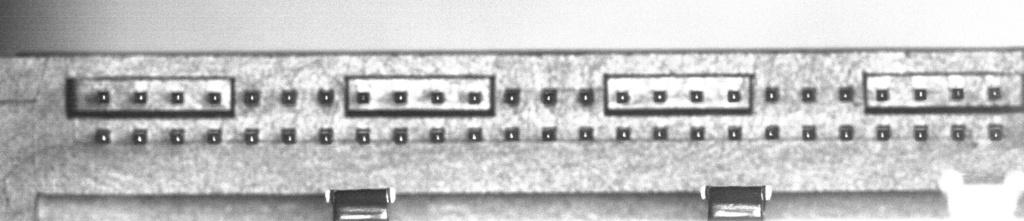pin_ok: (317, 87, 335, 105), (540, 87, 558, 105), (987, 123, 1004, 141), (503, 87, 520, 105), (280, 88, 298, 105), (576, 88, 594, 105), (838, 85, 855, 102), (242, 89, 260, 105), (875, 124, 892, 140), (243, 128, 260, 144), (951, 125, 967, 141), (913, 125, 929, 141), (169, 128, 185, 144), (355, 128, 371, 144), (95, 128, 111, 144), (764, 86, 780, 102), (800, 86, 816, 102), (801, 125, 817, 140), (281, 127, 296, 143), (206, 128, 221, 144), (429, 127, 445, 142), (467, 127, 483, 142), (541, 126, 557, 141), (131, 129, 147, 144), (318, 127, 333, 143), (503, 127, 520, 141), (839, 125, 854, 140), (393, 128, 408, 143), (727, 125, 742, 140), (690, 125, 705, 140), (614, 90, 630, 104), (764, 125, 780, 139), (615, 126, 631, 140), (874, 88, 890, 102), (579, 126, 594, 140), (653, 126, 668, 140), (689, 89, 704, 103), (652, 89, 667, 103), (467, 90, 482, 104), (987, 86, 1002, 100), (727, 89, 741, 103), (392, 90, 407, 103), (132, 90, 147, 103), (430, 91, 445, 104), (913, 88, 928, 101), (207, 91, 222, 104), (950, 87, 965, 100), (356, 91, 370, 104), (170, 91, 184, 104), (96, 90, 110, 103)
